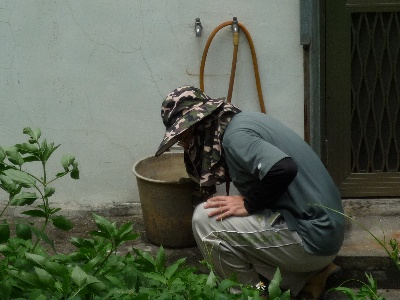bucket: (131, 152, 214, 250)
